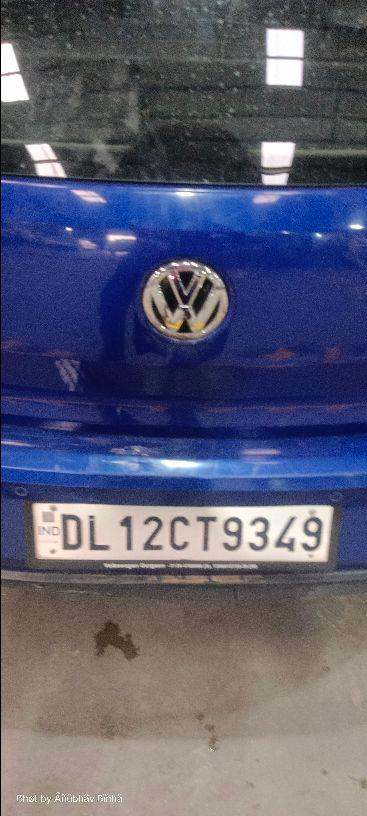license_plate: (23, 498, 340, 571), (133, 255, 233, 349)
